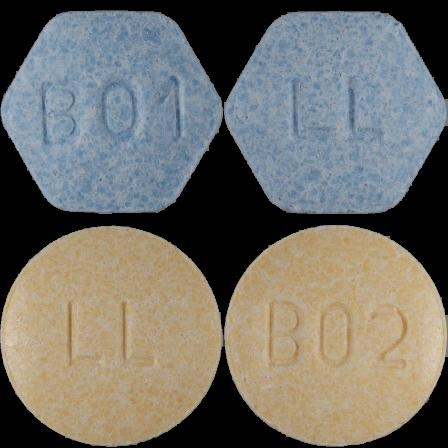60760-063: (0, 0, 224, 224)
